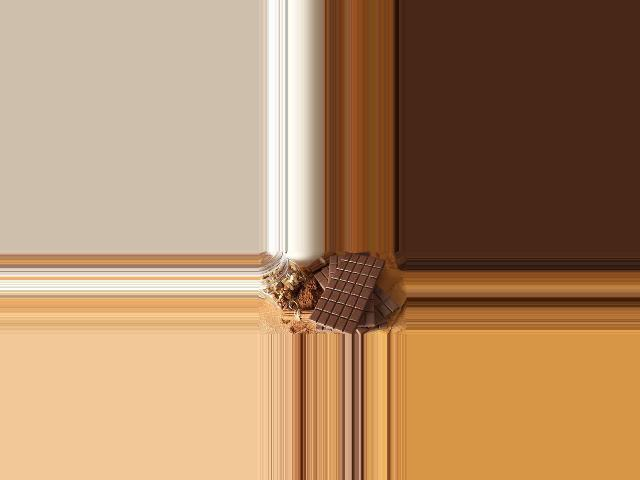chocolate: (304, 255, 386, 334)
